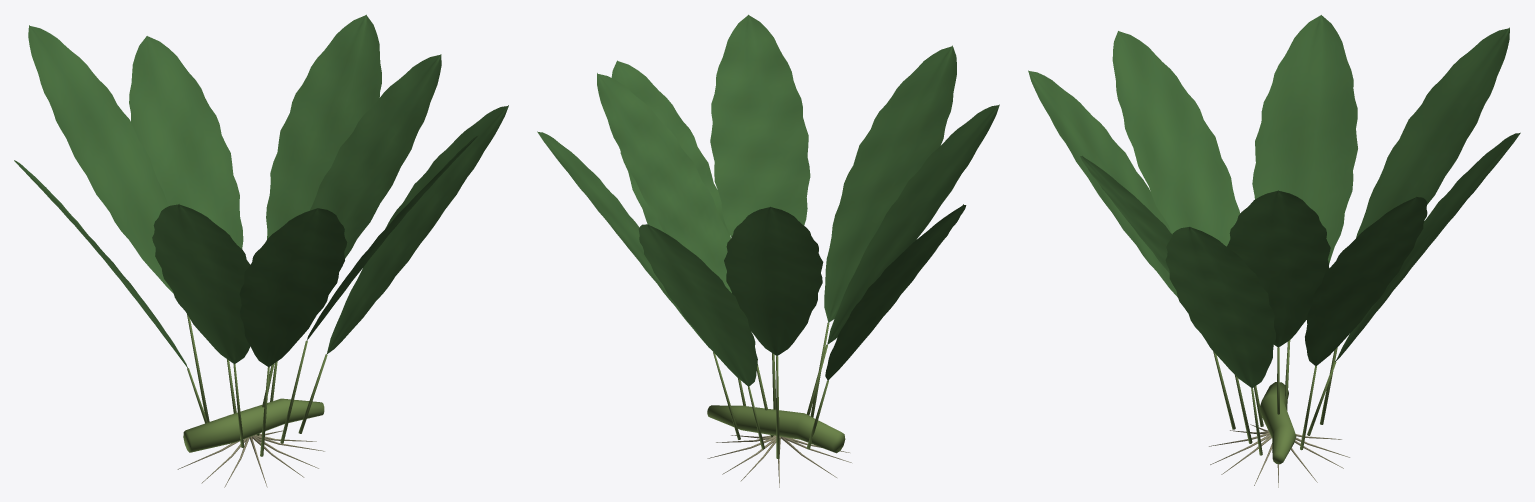
The model's file is anubias-desktop.glb.
3 views of the same model, side by side, from view 1: azimuth 30°, elevation 25°; view 2: azimuth 150°, elevation 25°; view 3: azimuth 270°, elevation 25° (orthographic). The views are drawn at different scales.
Parts seen in each view (by area): view 1: blade, creeping-rhizome, petiole, anchoring-root; view 2: blade, creeping-rhizome, petiole, anchoring-root; view 3: blade, petiole, creeping-rhizome, anchoring-root.
Boxes of the visible parts, box(x1,y1,x2,y2) form: blade: box(14, 14, 508, 367); creeping-rhizome: box(183, 398, 324, 452); petiole: box(187, 314, 327, 456); anchoring-root: box(177, 430, 324, 487); blade: box(537, 14, 999, 386); creeping-rhizome: box(707, 405, 845, 453); petiole: box(713, 323, 829, 458); anchoring-root: box(707, 435, 851, 487); blade: box(1028, 15, 1520, 388); petiole: box(1213, 340, 1337, 455); creeping-rhizome: box(1260, 382, 1296, 464); anchoring-root: box(1209, 424, 1349, 487).
Bounding box in the file's own units: 0.7553 × 0.6302 × 0.7479.
